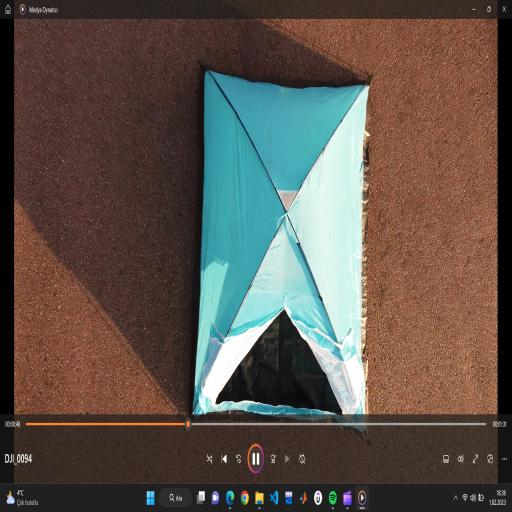tent: (190, 50, 372, 416)
